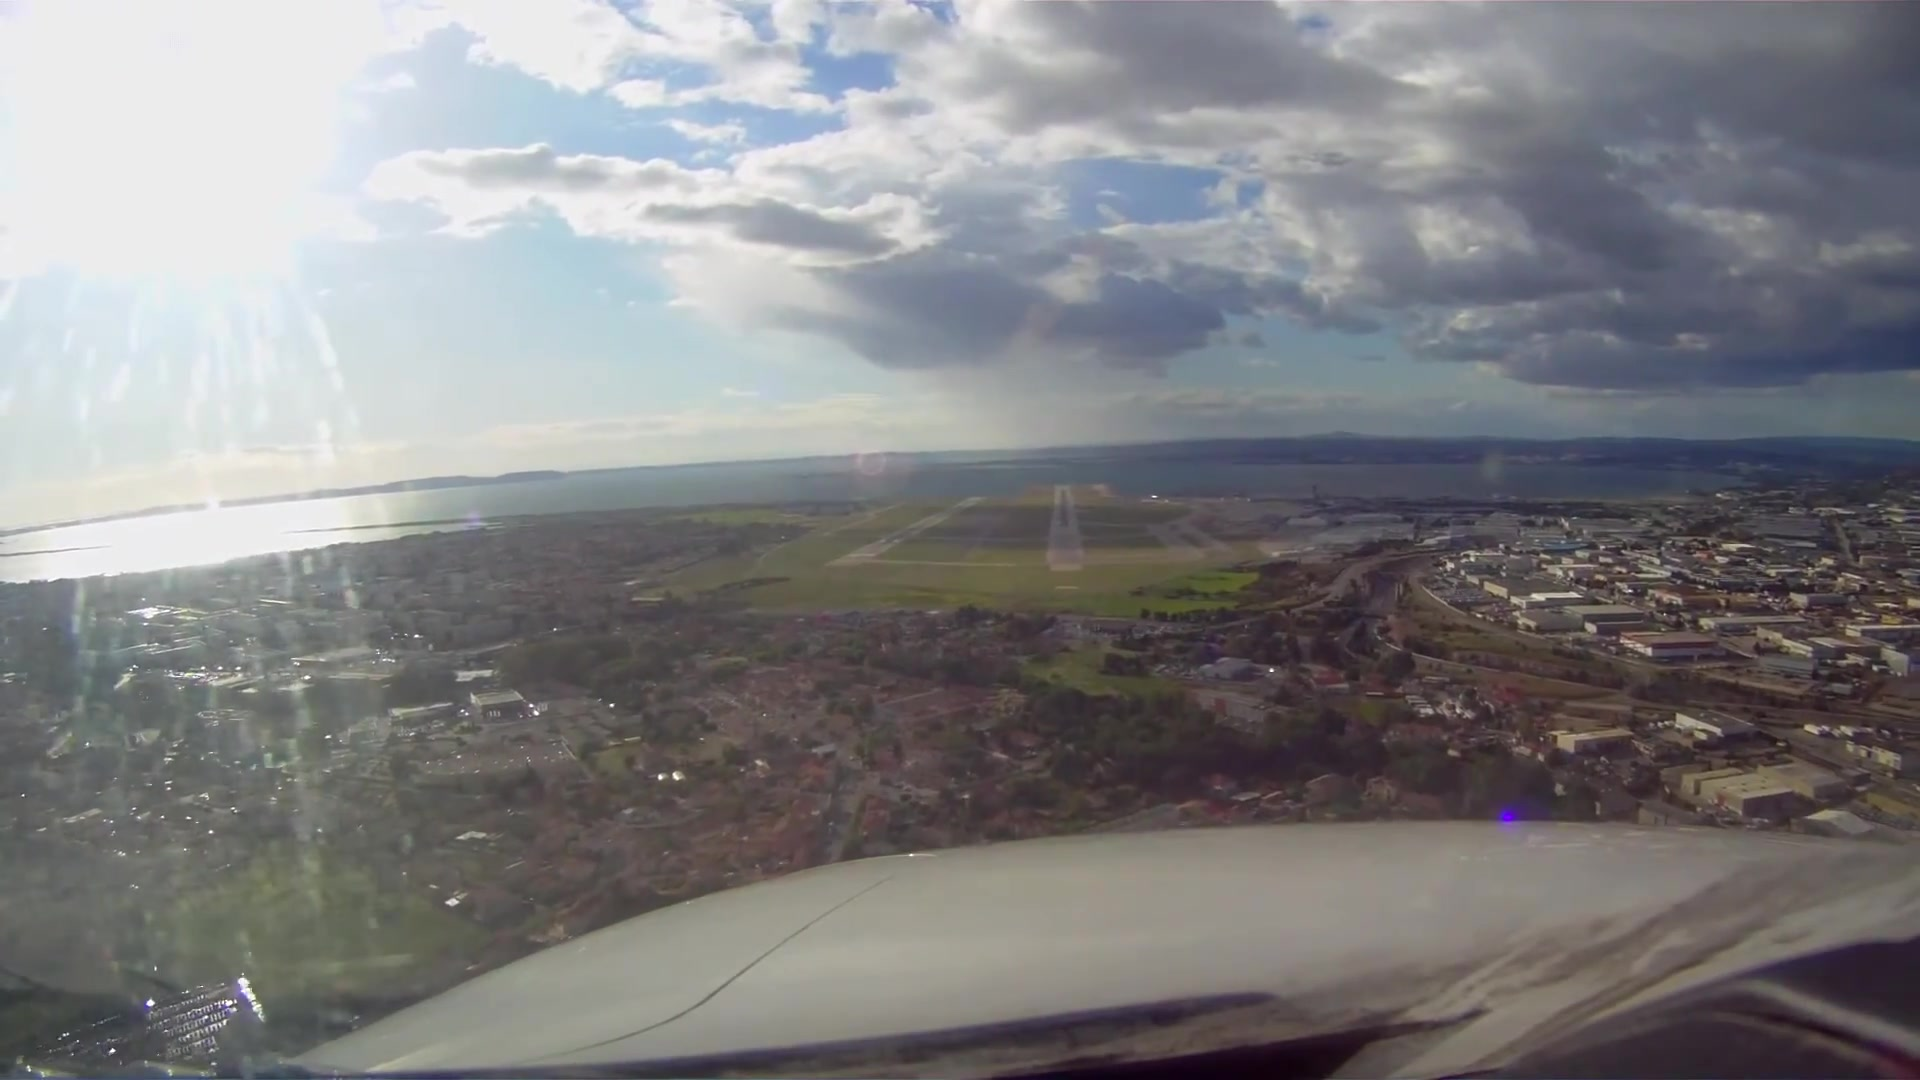runway: (824, 495, 984, 568), (1042, 485, 1088, 572)
